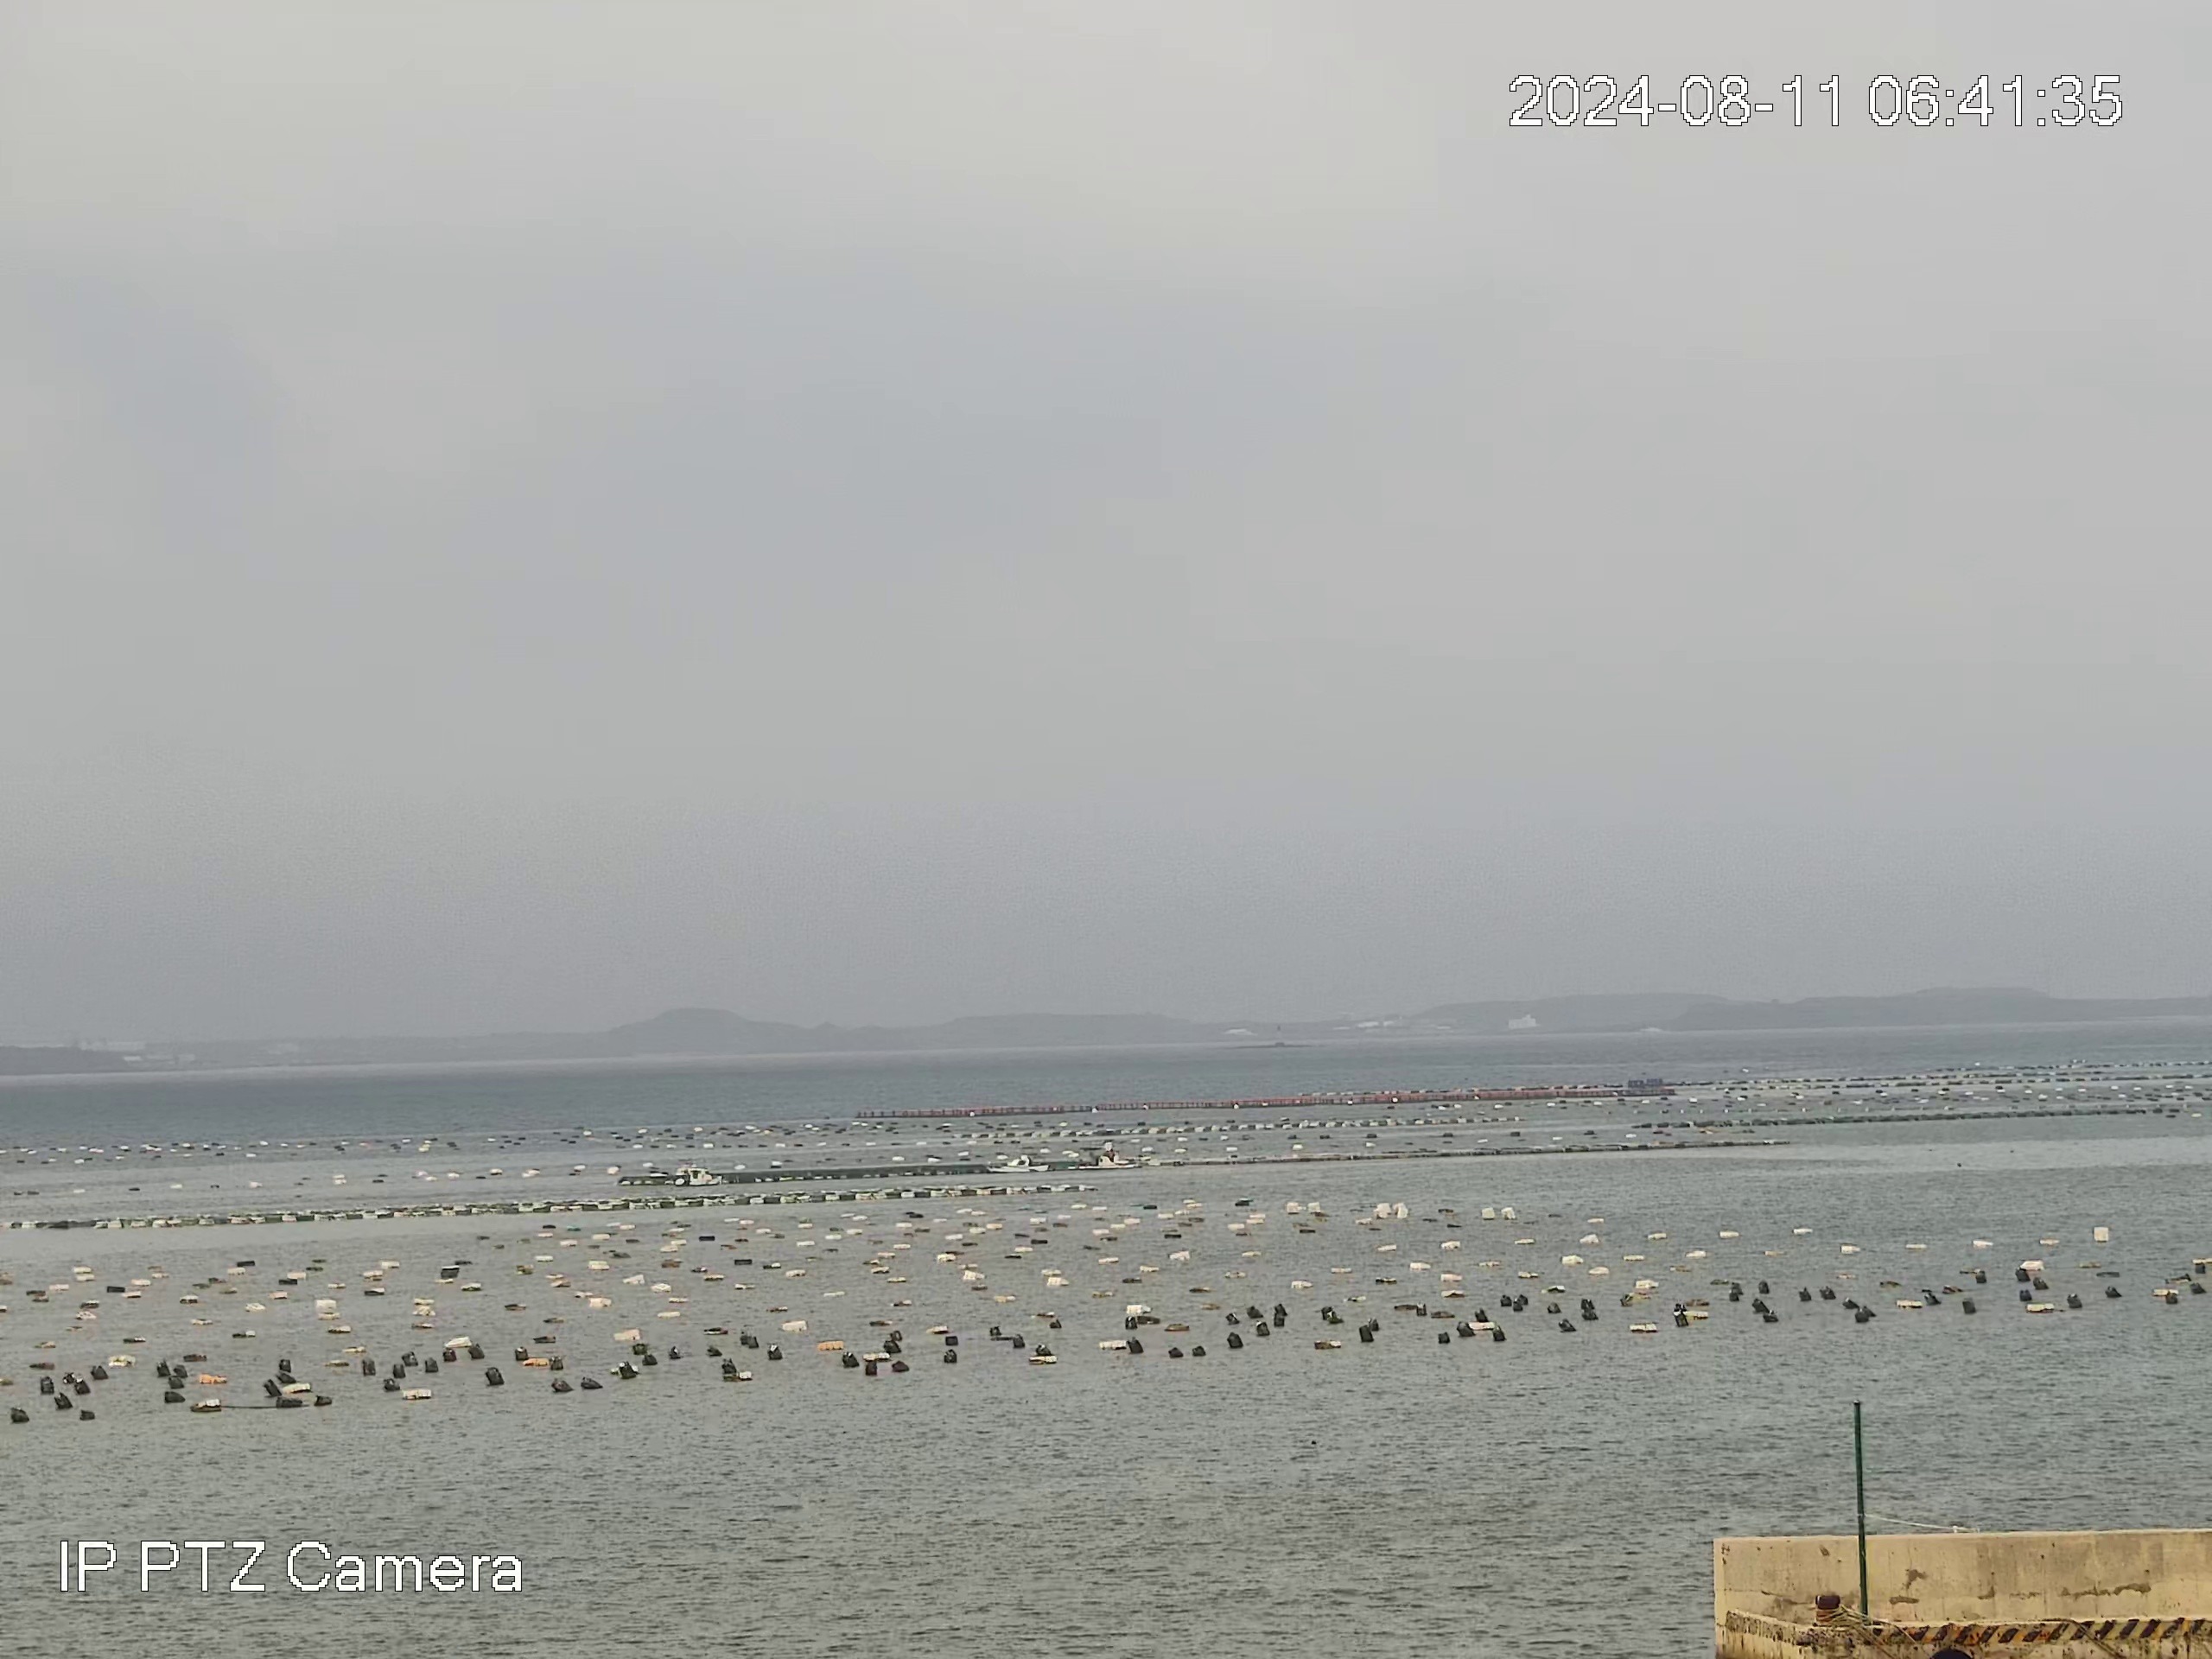boat: (1064, 1150, 1137, 1169), (982, 1154, 1050, 1173), (674, 1166, 721, 1187)
